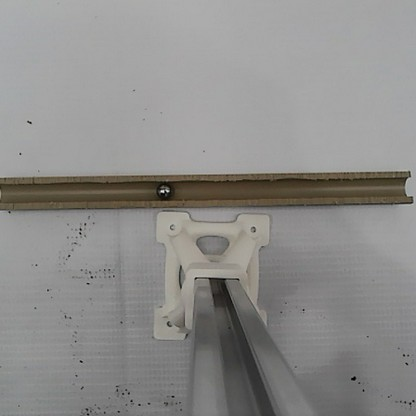ironball: (154, 180, 172, 200)
